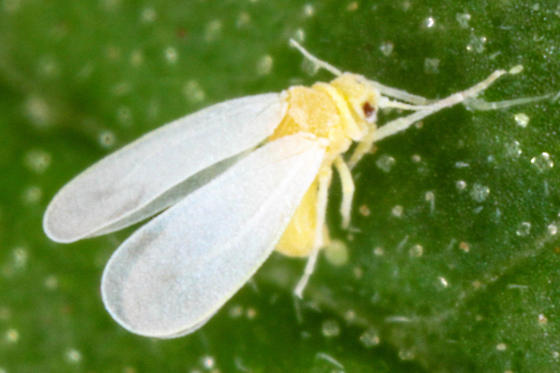Tobacco Whitefly: (41, 61, 431, 325)
